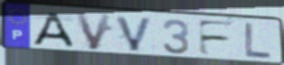3: (161, 18, 191, 55)
A: (30, 11, 76, 49)
F: (196, 19, 238, 57)
L: (243, 21, 274, 61)
V: (73, 12, 115, 52), (114, 15, 155, 53)
